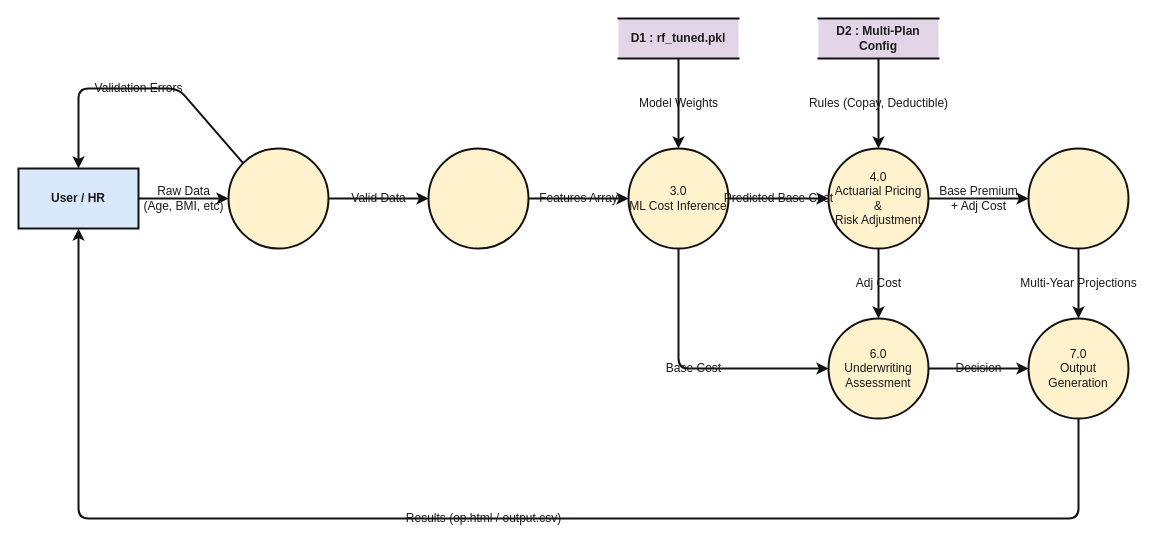
This 1153x544 diagram has some shape labels left out. The box of each missing label's shape, as (x1, y1, x2, y2) in pixels:
1.0 Validate Input (Form/CSV): (227, 147, 329, 249)
2.0 Data Preprocessing & Encoding: (427, 147, 529, 249)
5.0 NCB & Multi-Year Simulation: (1027, 147, 1129, 249)
